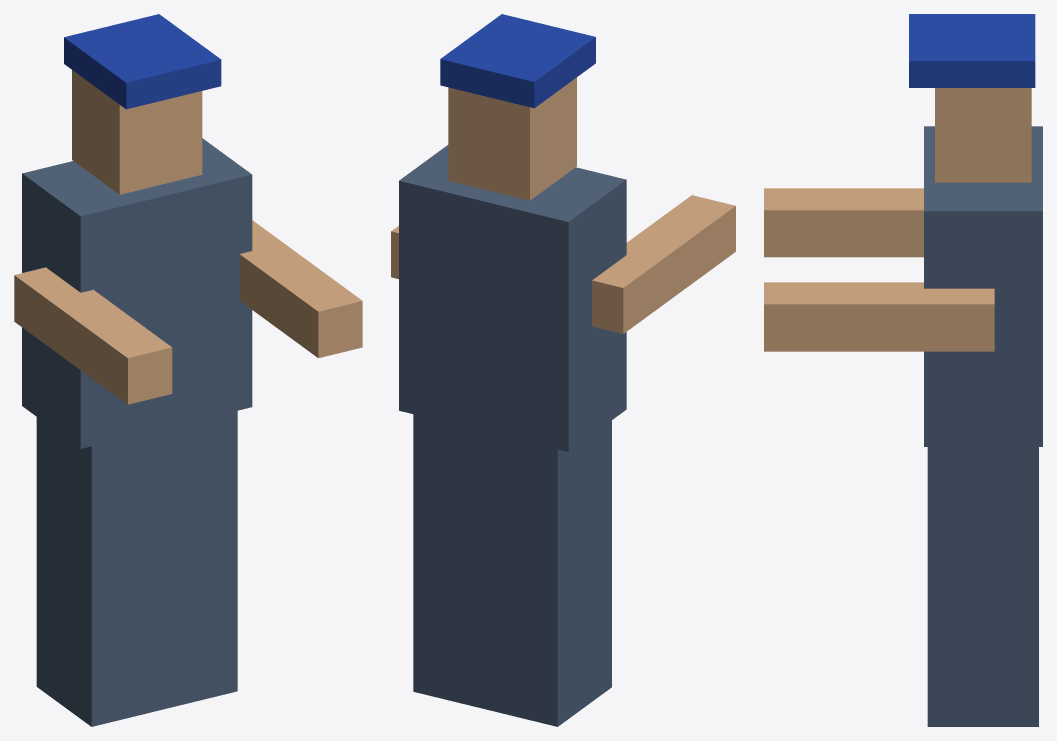
Rendered from janitor.obj.
The picture shows the model from 3 angles, left to right: view 1: azimuth 30°, elevation 25°; view 2: azimuth 150°, elevation 25°; view 3: azimuth 270°, elevation 25°; orthographic projection. The views are drawn at different scales.
Bounding box in the file's own units: 0.74 × 1.94 × 0.75.
